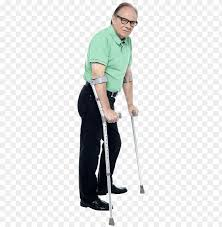crutches: (76, 2, 146, 227)
